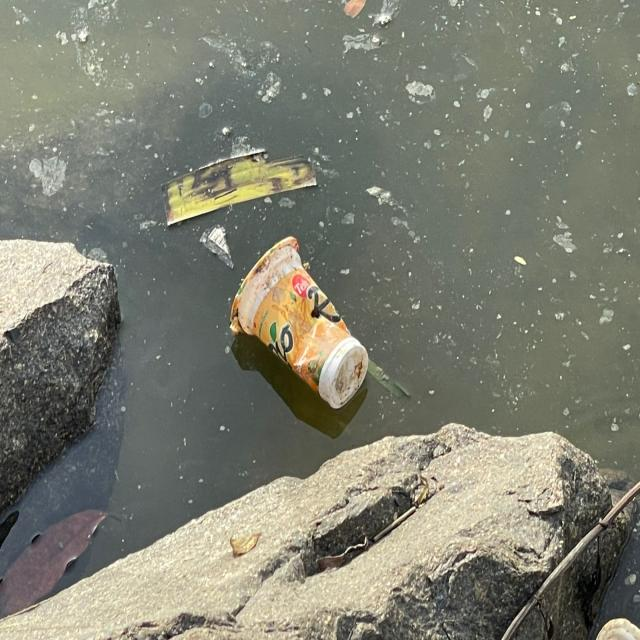Bungkus Minuman: (224, 232, 373, 418)
